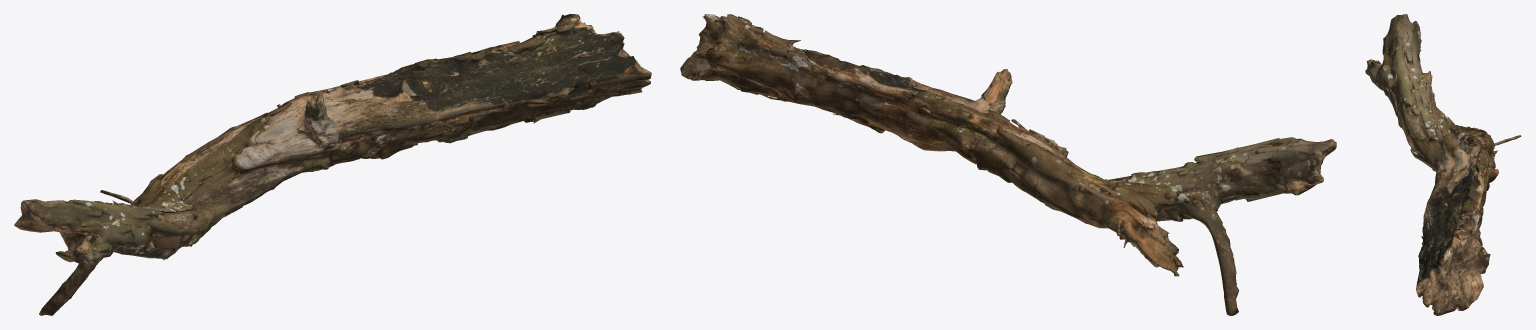
File: dead-tree-trunk-02.glb
3 renders of one model, left to right at view 1: azimuth 30°, elevation 25°; view 2: azimuth 150°, elevation 25°; view 3: azimuth 270°, elevation 25°, orthographic. The views are drawn at different scales.
Visible parts, largest first — view 1: dead_tree_trunk_02; view 2: dead_tree_trunk_02; view 3: dead_tree_trunk_02.
Boxes of the visible parts, box(x1,y1,x2,y2) form: dead_tree_trunk_02: box(14, 14, 651, 315); dead_tree_trunk_02: box(680, 14, 1336, 315); dead_tree_trunk_02: box(1365, 14, 1521, 315).
Bounding box in the file's own units: 4.05 × 1.05 × 1.05.
1 material, 1 textured.
